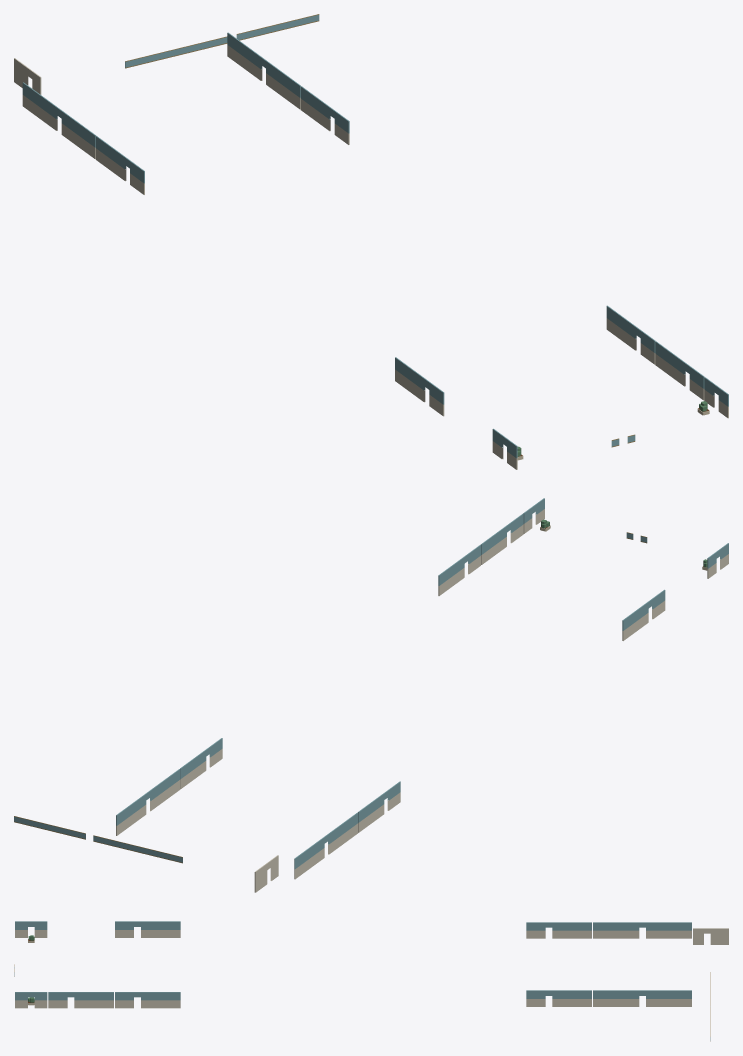
Rendered from D04_PORT_AFT_COURT_PATCH_r001.glb.
3 renders of one model, top to bottom at view 1: azimuth 30°, elevation 25°; view 2: azimuth 150°, elevation 25°; view 3: azimuth 270°, elevation 25°, orthographic. The views are drawn at different scales.
Visible parts, largest first — view 1: PANR_D04SF_OuterGuard_02, PANH_D04SFH_D04HC5_east_GlassUpper, PANH_D04SFH_D04HC5_west_GlassUpper, PANH_D04SFH_D04HC5_east_PrivacyScreen, PANH_D04SFH_D04HC5_west_PrivacyScreen; view 2: PANR_D04SF_OuterGuard_02, PANH_D04SFH_D04HC5_west_GlassUpper, PANH_D04SFH_D04HC5_east_GlassUpper, PANH_D04SFH_D04HC5_west_PrivacyScreen, PANH_D04SFH_D04HC5_east_PrivacyScreen; view 3: PANH_D04SFH_D04HC5_west_GlassUpper, PANH_D04SFH_D04HC5_east_GlassUpper, PANH_D04SFH_D04HC5_west_PrivacyScreen, PANH_D04SFH_D04HC5_east_PrivacyScreen, PANH_D04SFH_D04HC4_west_GlassUpper, PANH_D04SFH_D04HC4_east_GlassUpper, PASH_D04SFH_D04HC2_east_GlassUpper, PASH_D04SFH_D04HC_west_GlassUpper, PASH_D04SFH_D04HC_east_GlassUpper, PANR_D04SF_ServiceEastWall, PANH_D04SFH_D04HC4_west_PrivacyScreen, PASH_D04SFH_D04HC2_east_PrivacyScreen (+6 smaller).
Part boxes in pixels (x1=…): PANR_D04SF_OuterGuard_02: x1=125, y1=15, x2=319, y2=67; PANH_D04SFH_D04HC5_east_GlassUpper: x1=227, y1=32, x2=300, y2=97; PANH_D04SFH_D04HC5_west_GlassUpper: x1=22, y1=82, x2=96, y2=147; PANH_D04SFH_D04HC5_east_PrivacyScreen: x1=227, y1=45, x2=300, y2=109; PANH_D04SFH_D04HC5_west_PrivacyScreen: x1=22, y1=95, x2=95, y2=159; PANR_D04SF_OuterGuard_02: x1=14, y1=816, x2=182, y2=862; PANH_D04SFH_D04HC5_west_GlassUpper: x1=294, y1=812, x2=358, y2=869; PANH_D04SFH_D04HC5_east_GlassUpper: x1=116, y1=769, x2=180, y2=825; PANH_D04SFH_D04HC5_west_PrivacyScreen: x1=294, y1=823, x2=358, y2=879; PANH_D04SFH_D04HC5_east_PrivacyScreen: x1=116, y1=780, x2=180, y2=835; PANH_D04SFH_D04HC5_west_GlassUpper: x1=593, y1=922, x2=691, y2=930; PANH_D04SFH_D04HC5_east_GlassUpper: x1=593, y1=990, x2=691, y2=998; PANH_D04SFH_D04HC5_west_PrivacyScreen: x1=593, y1=930, x2=691, y2=938; PANH_D04SFH_D04HC5_east_PrivacyScreen: x1=593, y1=999, x2=691, y2=1006; PANH_D04SFH_D04HC4_west_GlassUpper: x1=526, y1=922, x2=591, y2=930; PANH_D04SFH_D04HC4_east_GlassUpper: x1=526, y1=990, x2=591, y2=998; PASH_D04SFH_D04HC2_east_GlassUpper: x1=48, y1=992, x2=113, y2=1000; PASH_D04SFH_D04HC_west_GlassUpper: x1=115, y1=921, x2=180, y2=929; PASH_D04SFH_D04HC_east_GlassUpper: x1=115, y1=992, x2=180, y2=1000; PANR_D04SF_ServiceEastWall: x1=693, y1=928, x2=728, y2=944; PANH_D04SFH_D04HC4_west_PrivacyScreen: x1=526, y1=930, x2=591, y2=938; PASH_D04SFH_D04HC2_east_PrivacyScreen: x1=48, y1=1000, x2=113, y2=1008.
Bounding box in the file's own units: 54.6 × 3.98 × 159.
6 materials, 4 textured.
